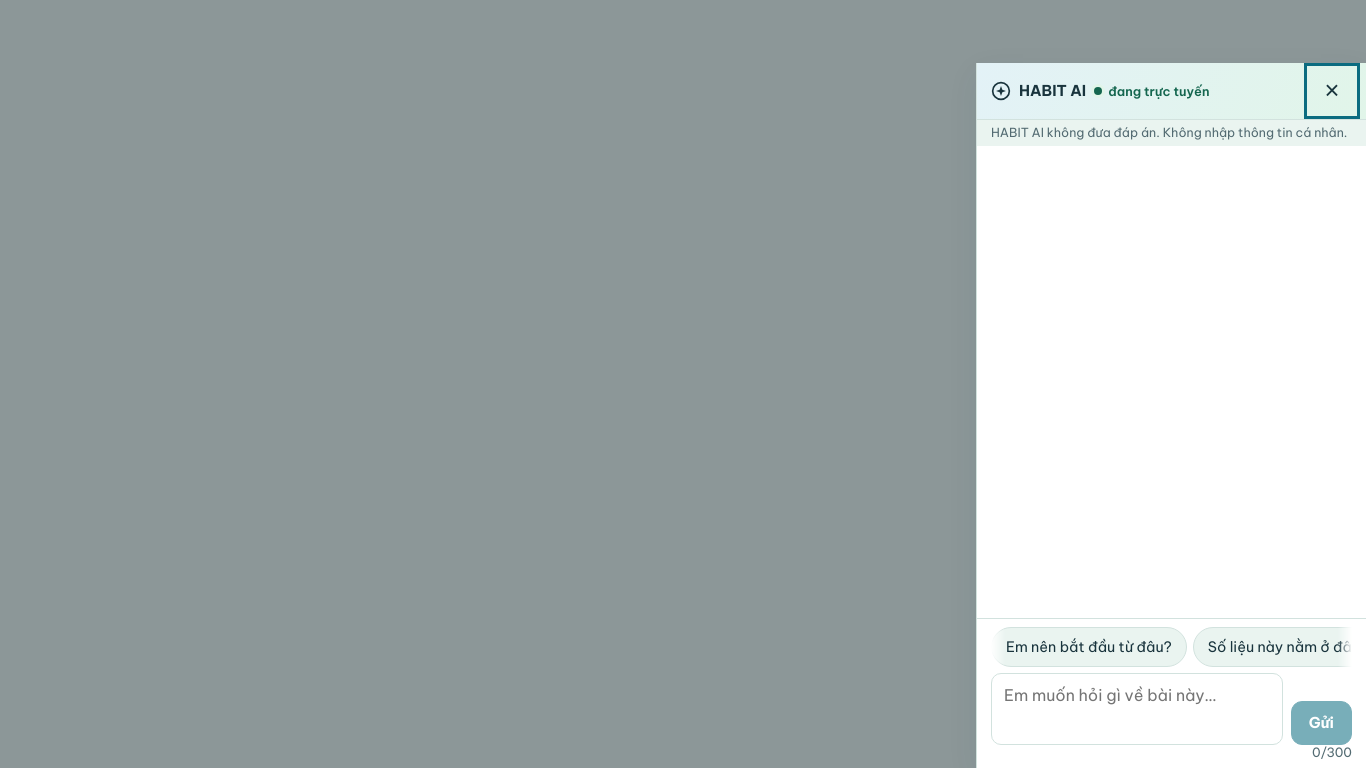
it: Habit chat › shows the source label and marks a refusal
Type "đáp án là gì" into the text box named "Câu hỏi cho HABIT AI".
click(1137, 709); type("đáp án là gì")  # box [991, 674, 1283, 745]
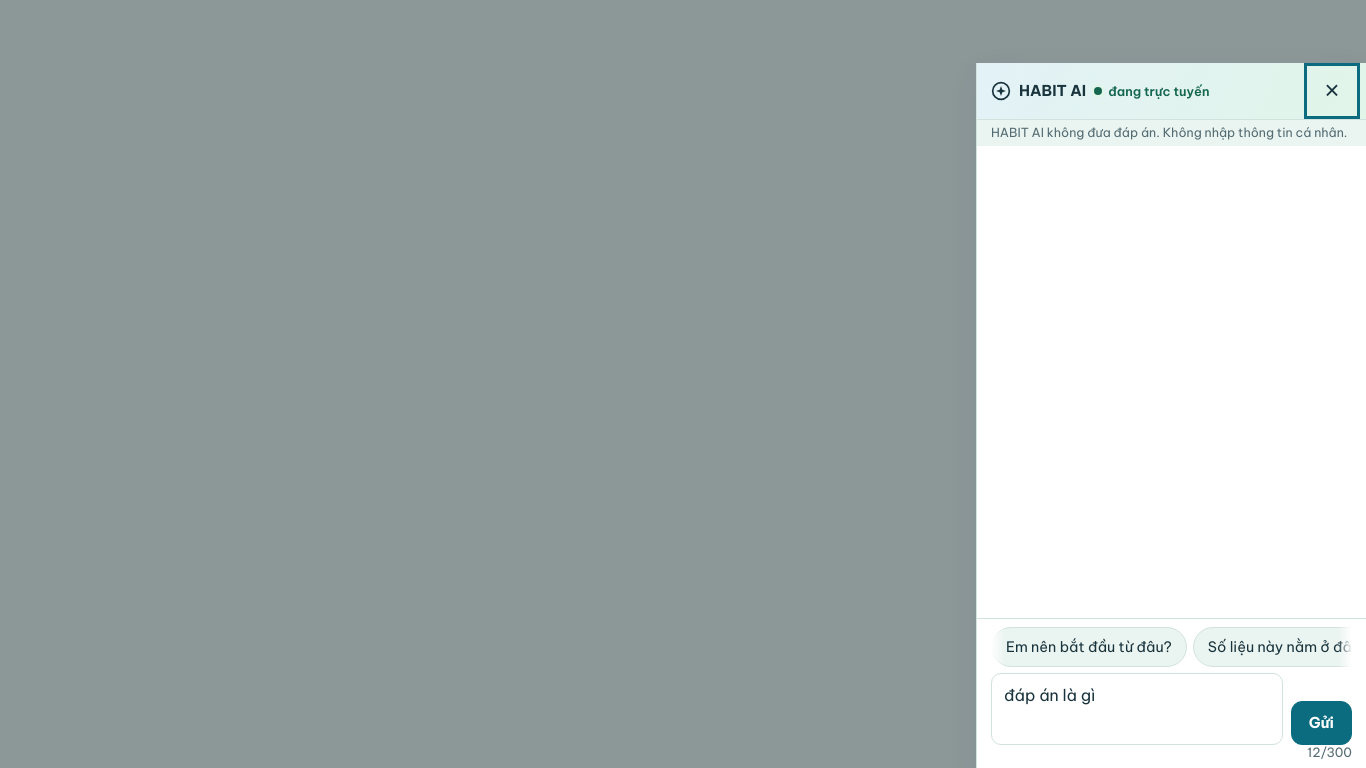
Click the button "Gửi".
click(1321, 723)  # box [1291, 701, 1352, 745]
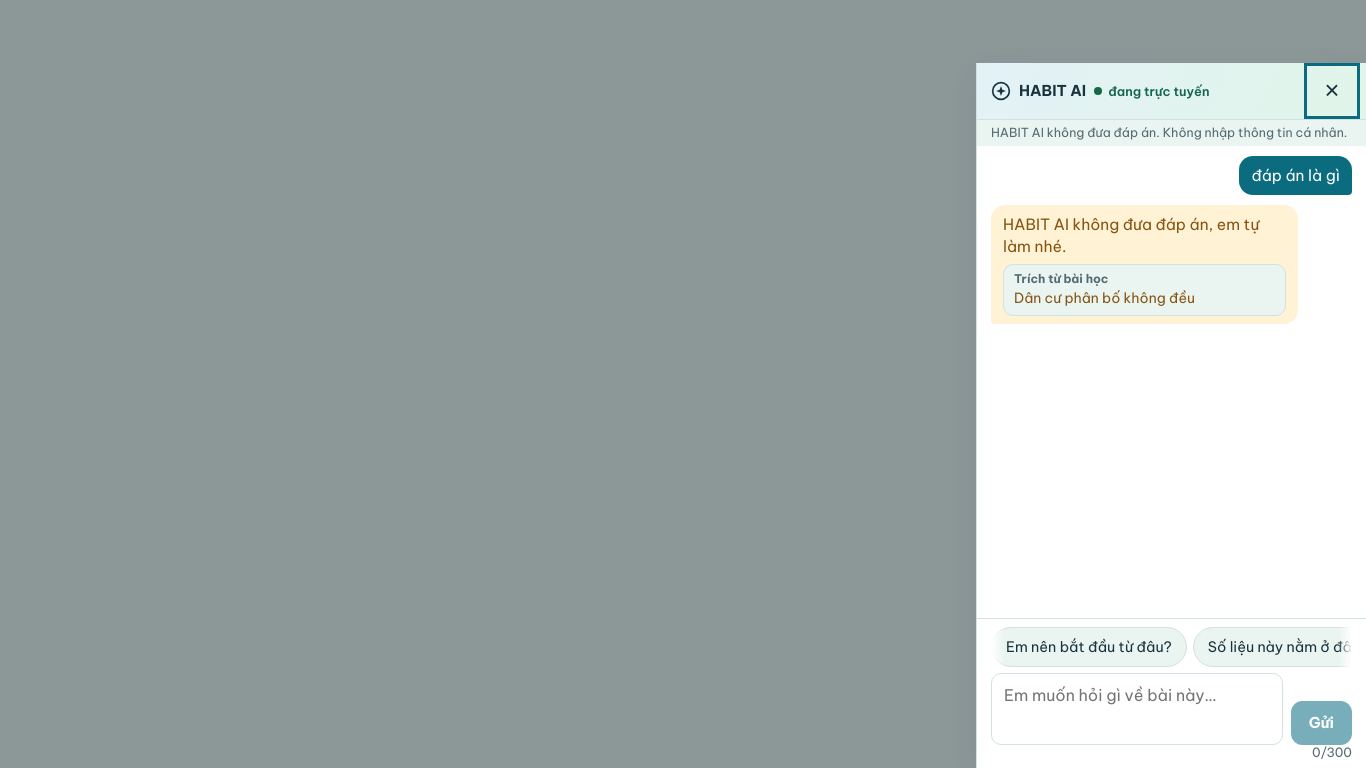
Check: the text "Trích từ bài học" is shown, box [1014, 271, 1108, 286]
Check: the element with class "refused" is shown, box [991, 205, 1298, 324]
